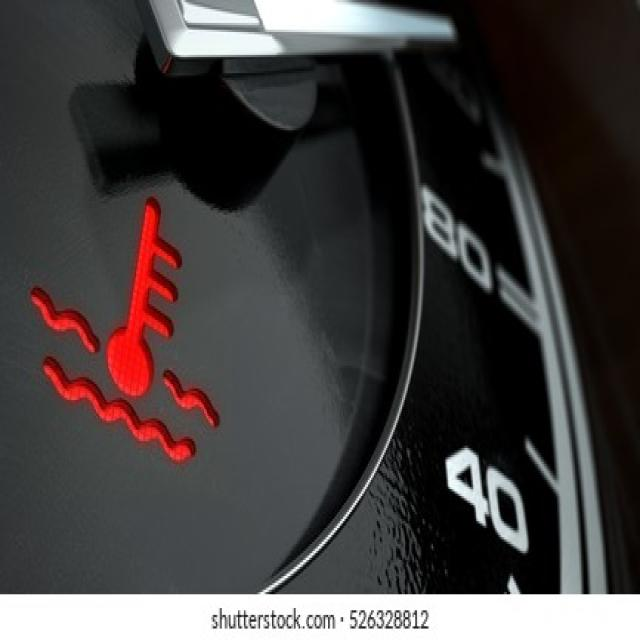Engine Overheating Warning Light: (22, 187, 223, 471)
